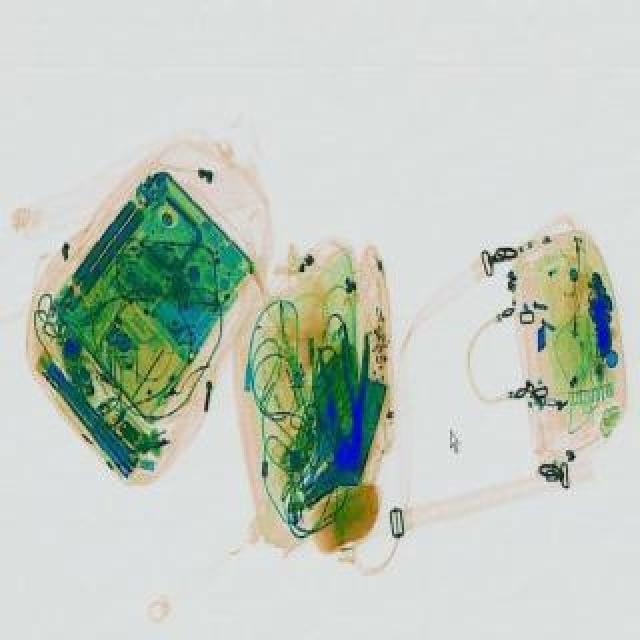wrench: (338, 332, 372, 450)
